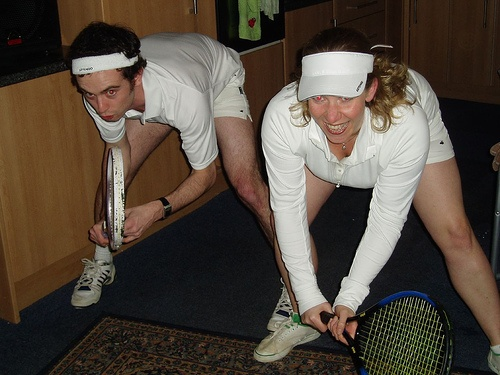head: (302, 28, 379, 144), (65, 21, 143, 124)
person: (256, 31, 500, 367), (66, 20, 276, 323)
